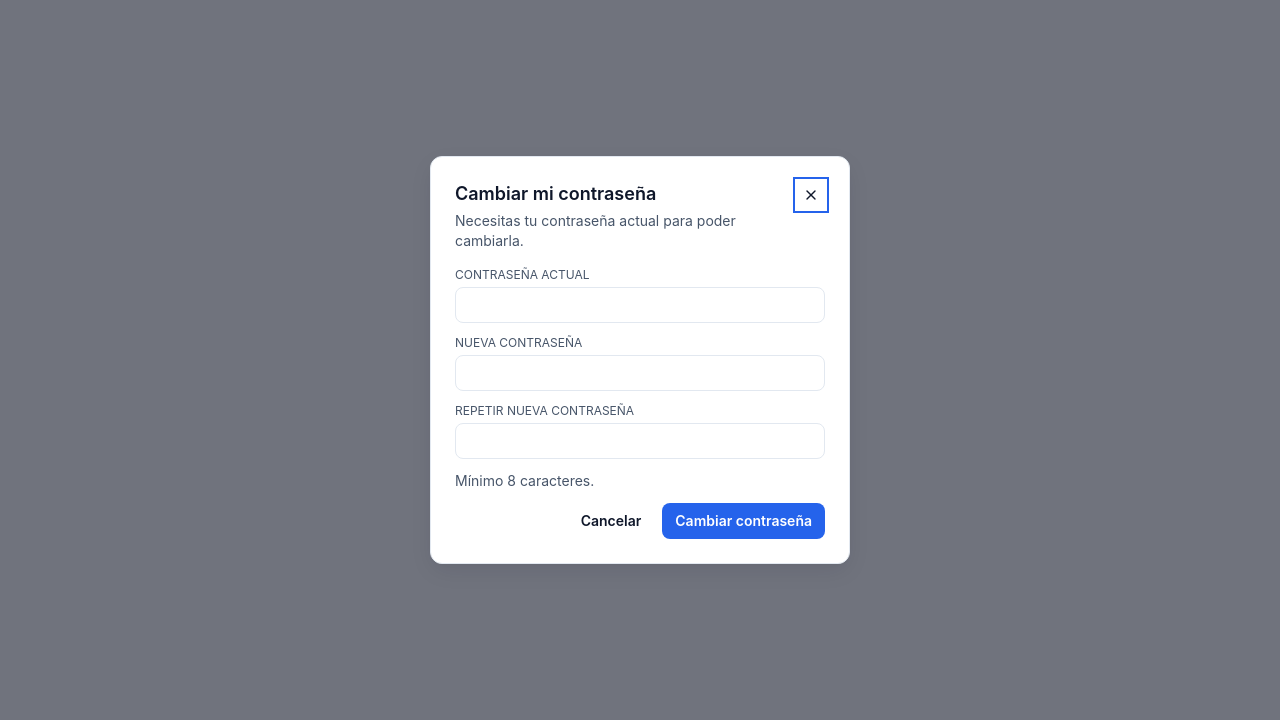
Test case: seguridad · qué se envía › mientras guarda, el botón lo dice
The width and height of the screenshot is (1280, 720).
Type "clave-actual-1" into the password field labelled "Contraseña actual" at [640, 305], box [455,287,825,323]
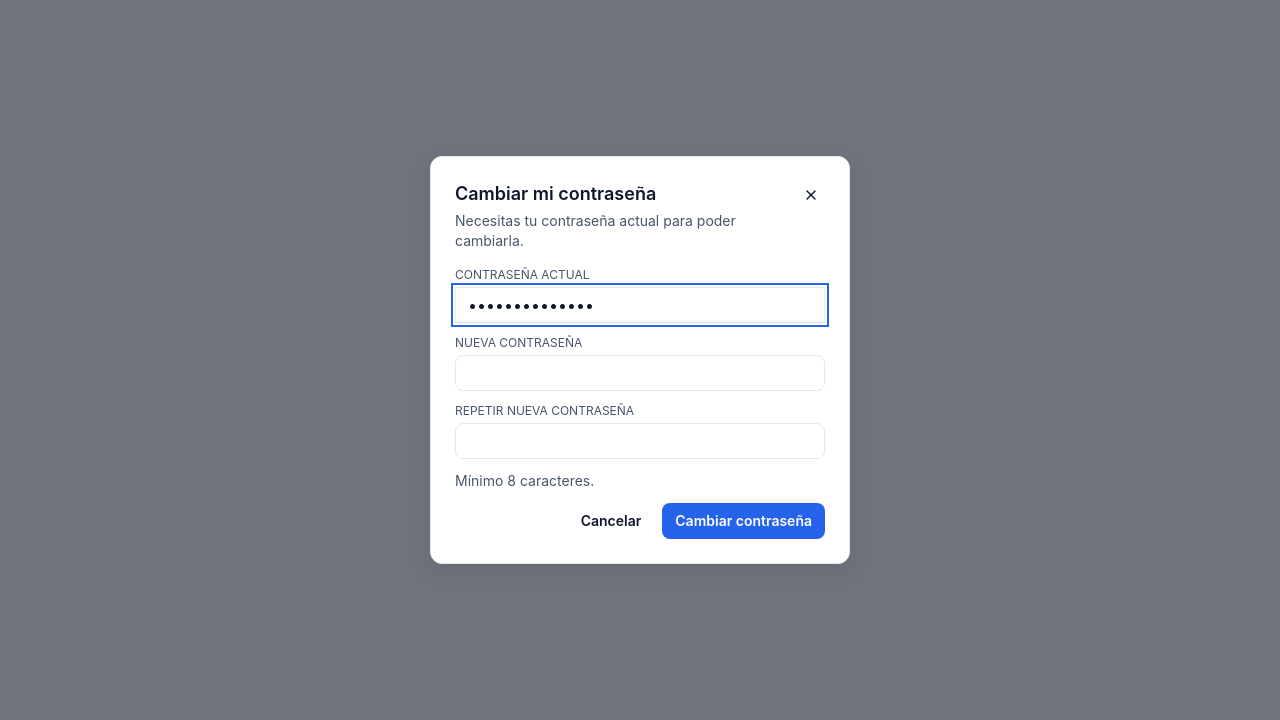
Type "clave-nueva-larga" into the password field labelled "Nueva contraseña" at [640, 373], box [455,355,825,391]
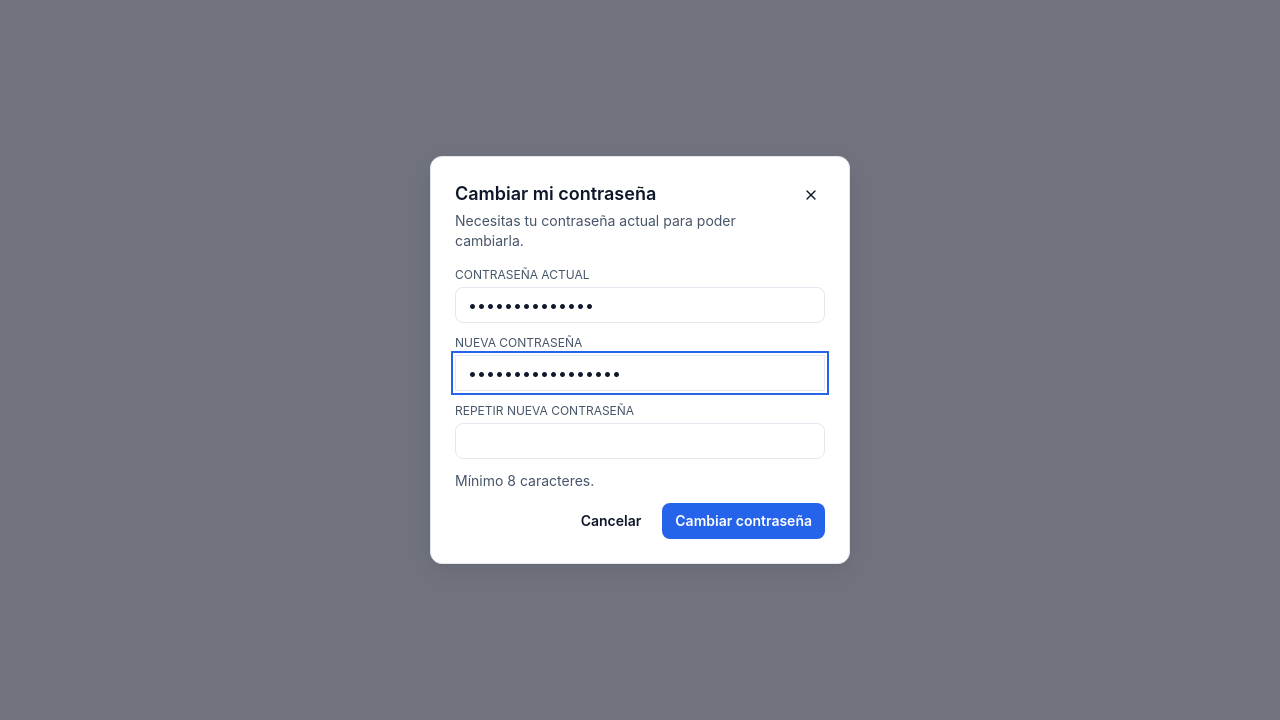
Type "clave-nueva-larga" into the password field labelled "Repetir nueva contraseña" at [640, 441], box [455,423,825,459]
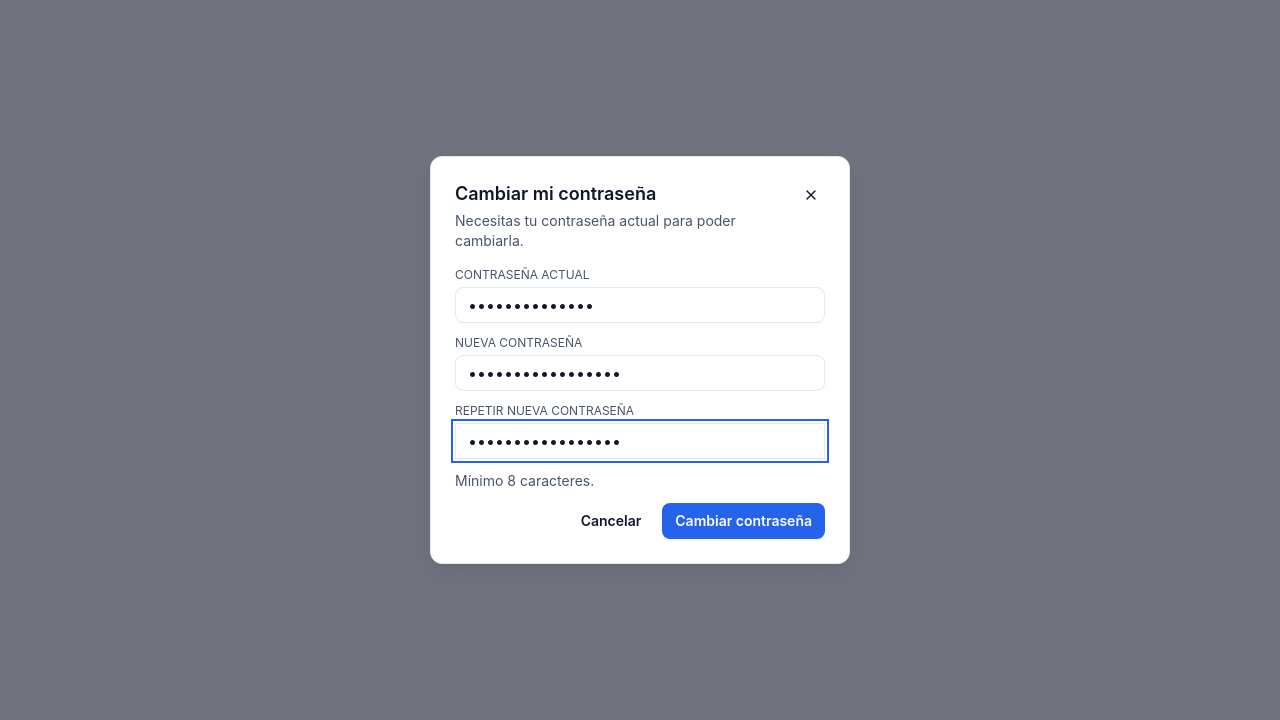
Click the button "Cambiar contraseña" at [744, 521], box [662,503,825,539]
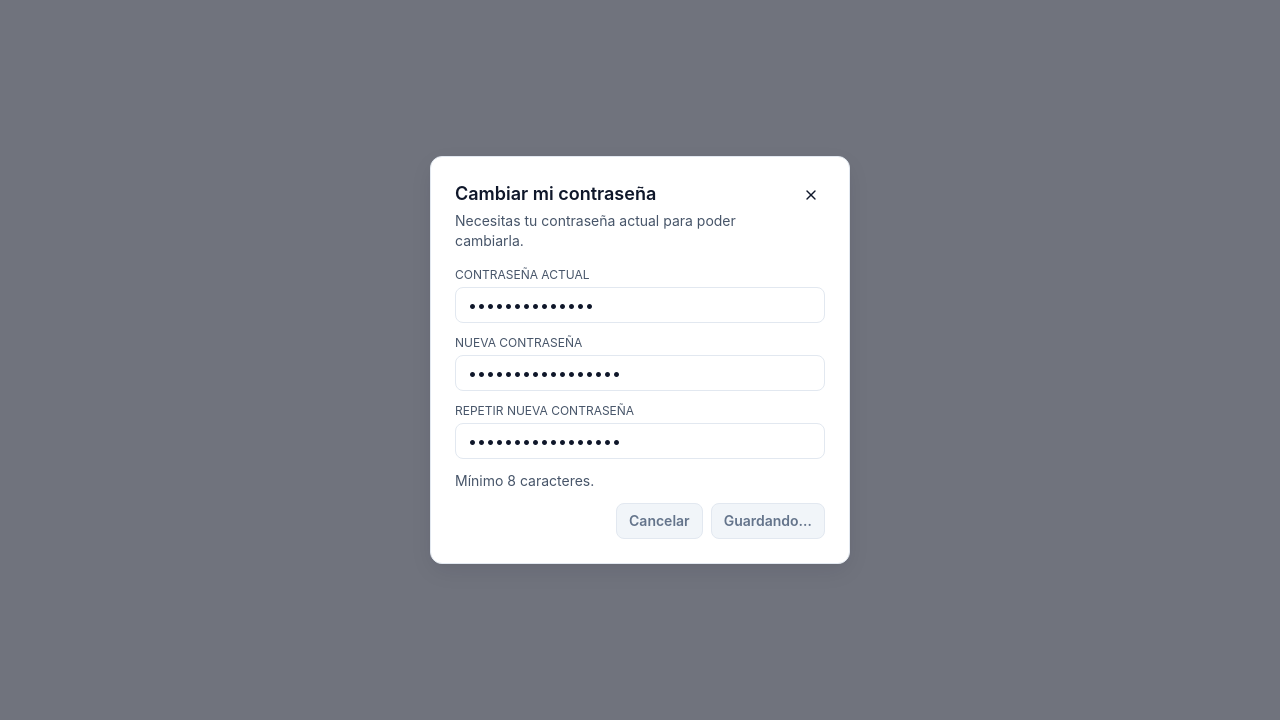
Expected: the button "Guardando…" is shown, [711,503,825,539]
